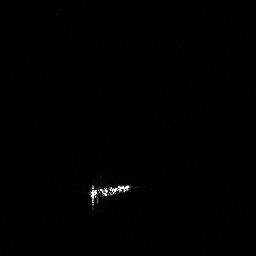ship: (87, 182, 135, 209)
